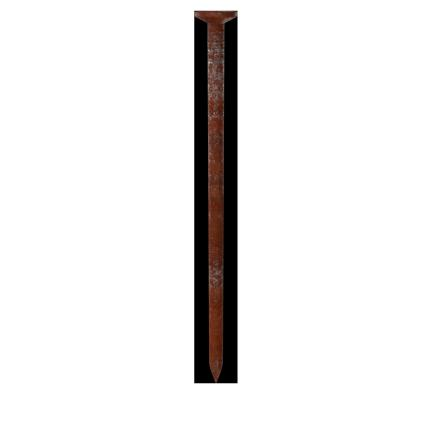karat: (195, 11, 237, 382)
